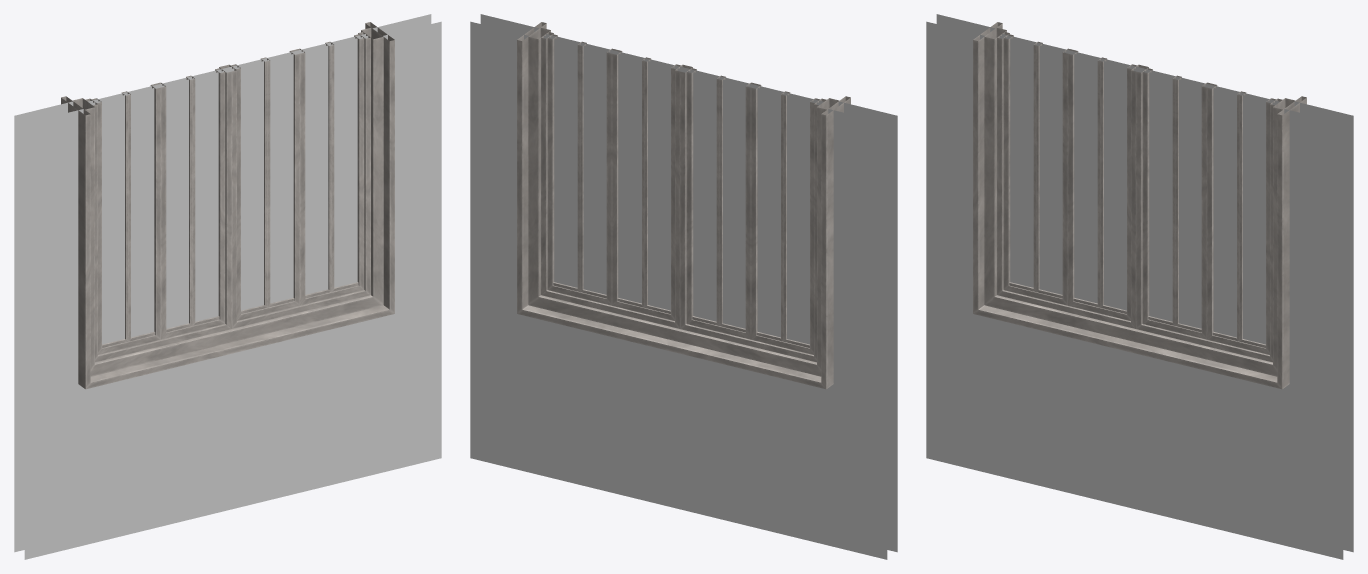
Rendered from Wall_Window_G_F.fbx.
The picture shows the model from 3 angles, left to right: view 1: azimuth 30°, elevation 25°; view 2: azimuth 150°, elevation 25°; view 3: azimuth 330°, elevation 25°; orthographic projection.
Parts seen in each view (by area): view 1: Wall_Window_G_F; view 2: Wall_Window_G_F; view 3: Wall_Window_G_F.
Part boxes in pixels (x1,y1,x2,y2): Wall_Window_G_F: (14, 14, 441, 559); Wall_Window_G_F: (470, 14, 897, 559); Wall_Window_G_F: (926, 14, 1353, 559).
Bounding box in the file's own units: 6 × 0.6115 × 6.
